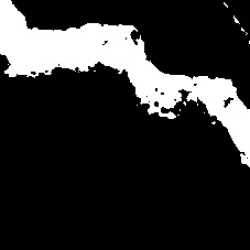crack: (2, 2, 248, 165), (223, 5, 246, 36)
